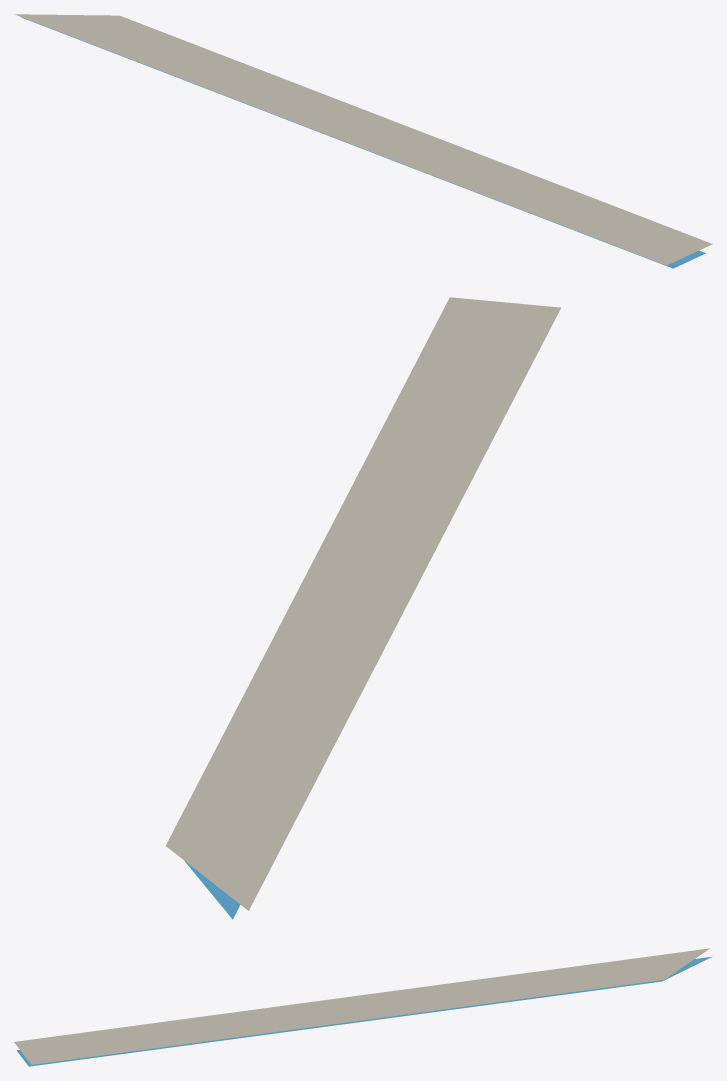
3 views of the same model, one above another, from view 1: azimuth 30°, elevation 25°; view 2: azimuth 150°, elevation 25°; view 3: azimuth 270°, elevation 25° (orthographic). The views are drawn at different scales.
Parts seen in each view (by area): view 1: estructura_terreno, estructura_agua; view 2: estructura_terreno; view 3: estructura_terreno, estructura_agua.
Part boxes in pixels (left/top/right/bottom): estructura_terreno: left=15, top=14, right=712, bottom=265; estructura_agua: left=21, top=17, right=705, bottom=268; estructura_terreno: left=165, top=297, right=560, bottom=910; estructura_terreno: left=14, top=948, right=709, bottom=1064; estructura_agua: left=17, top=956, right=712, bottom=1066.
Bounding box in the file's own units: 20.31 × 0.41 × 51.43.
